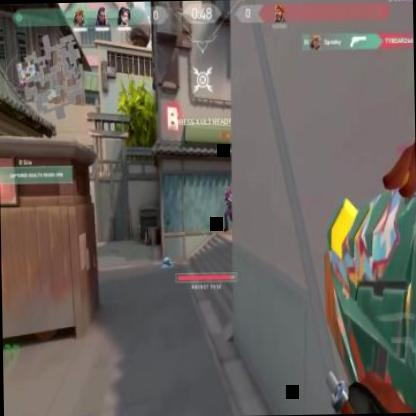enemy: (222, 184, 237, 234)
enemy_head: (225, 186, 229, 194)
